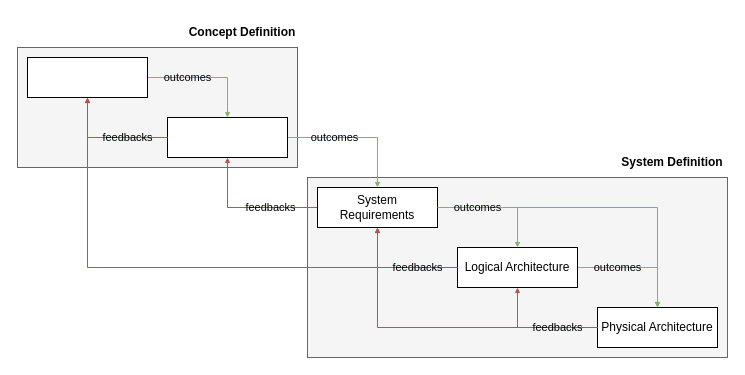
This 745x375 diagram has some shape labels left out. The shapes that lost their labels are listed below. From the top down, each one's centre as x and y in pixels, then its label:
At (87,77): "Mission Analysis".
At (227,137): "Stakeholder Needs & Requirements".
